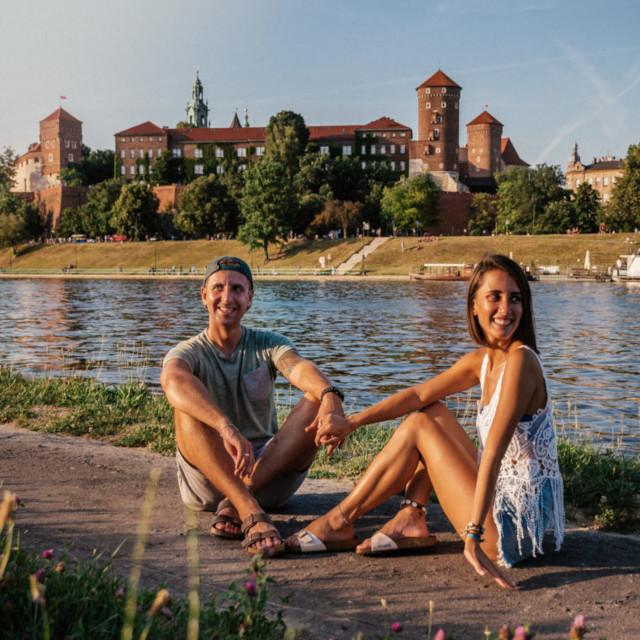kobieta: (369, 260, 558, 572)
mezczyzna: (166, 260, 338, 552)
